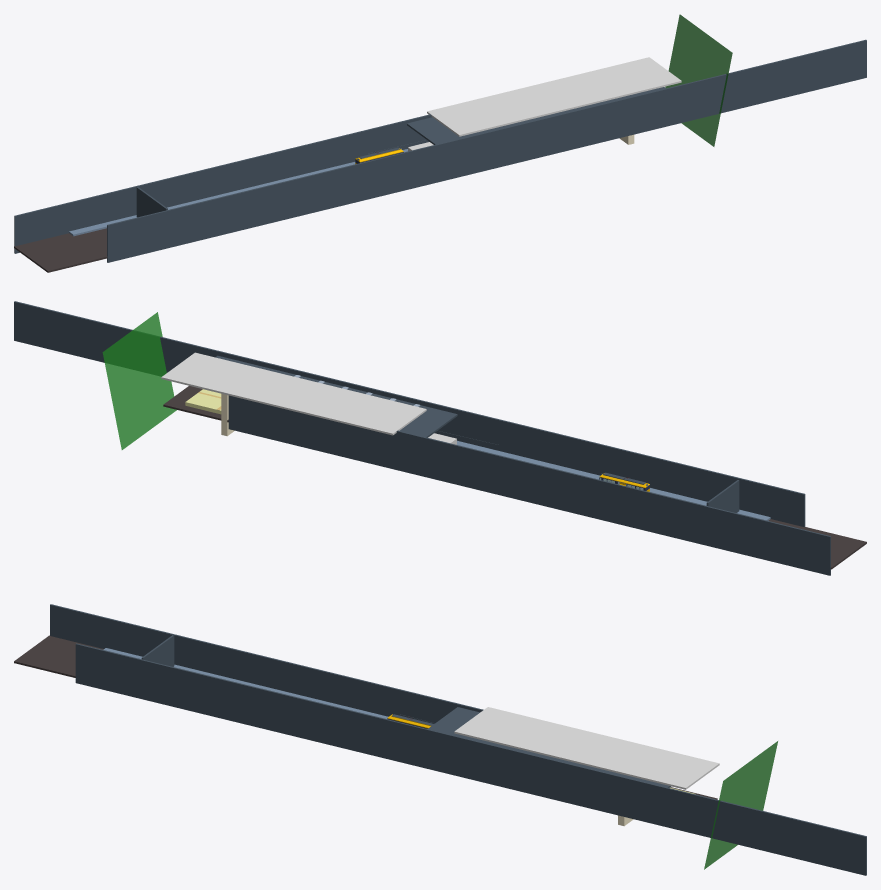
File: Third_Level_Colored.fbx
The picture shows the model from 3 angles, top to bottom: view 1: azimuth 30°, elevation 25°; view 2: azimuth 150°, elevation 25°; view 3: azimuth 330°, elevation 25°; orthographic projection. The views are drawn at different scales.
Visible parts, largest first — view 1: Cube.013, Cube.028, Cube.029, Plane, Cube.012, Cube.062, Cube.027, Cube.092; view 2: Cube.028, Cube.013, Cube.029, Plane, Cube.012, Cube.062, Cube.009, Cube.092, Cube.008; view 3: Cube.013, Cube.028, Cube.029, Plane, Cube.012, Cube.062, Cube.027, Cube.092.
Part boxes in pixels (left/top/right/bottom): Cube.013: left=107, top=39, right=866, bottom=262; Cube.028: left=14, top=114, right=431, bottom=253; Cube.029: left=427, top=57, right=681, bottom=136; Plane: left=665, top=14, right=732, bottom=146; Cube.012: left=14, top=228, right=107, bottom=272; Cube.062: left=407, top=87, right=665, bottom=144; Cube.027: left=69, top=149, right=407, bottom=236; Cube.092: left=136, top=187, right=167, bottom=217; Cube.028: left=228, top=395, right=830, bottom=575; Cube.013: left=14, top=301, right=805, bottom=527; Cube.029: left=161, top=352, right=426, bottom=435; Plane: left=102, top=312, right=176, bottom=449; Cube.012: left=163, top=386, right=866, bottom=569; Cube.062: left=215, top=355, right=457, bottom=437; Cube.009: left=457, top=440, right=770, bottom=520; Cube.092: left=706, top=480, right=739, bottom=512; Cube.008: left=185, top=389, right=221, bottom=414; Cube.013: left=75, top=643, right=866, bottom=875; Cube.028: left=50, top=604, right=483, bottom=723; Cube.029: left=454, top=707, right=719, bottom=789; Plane: left=704, top=741, right=777, bottom=869; Cube.012: left=14, top=635, right=717, bottom=799; Cube.062: left=428, top=707, right=671, bottom=787; Cube.027: left=103, top=648, right=388, bottom=718; Cube.092: left=141, top=635, right=174, bottom=666.
Bounding box in the file's own units: 54336 × 5704 × 6093.
